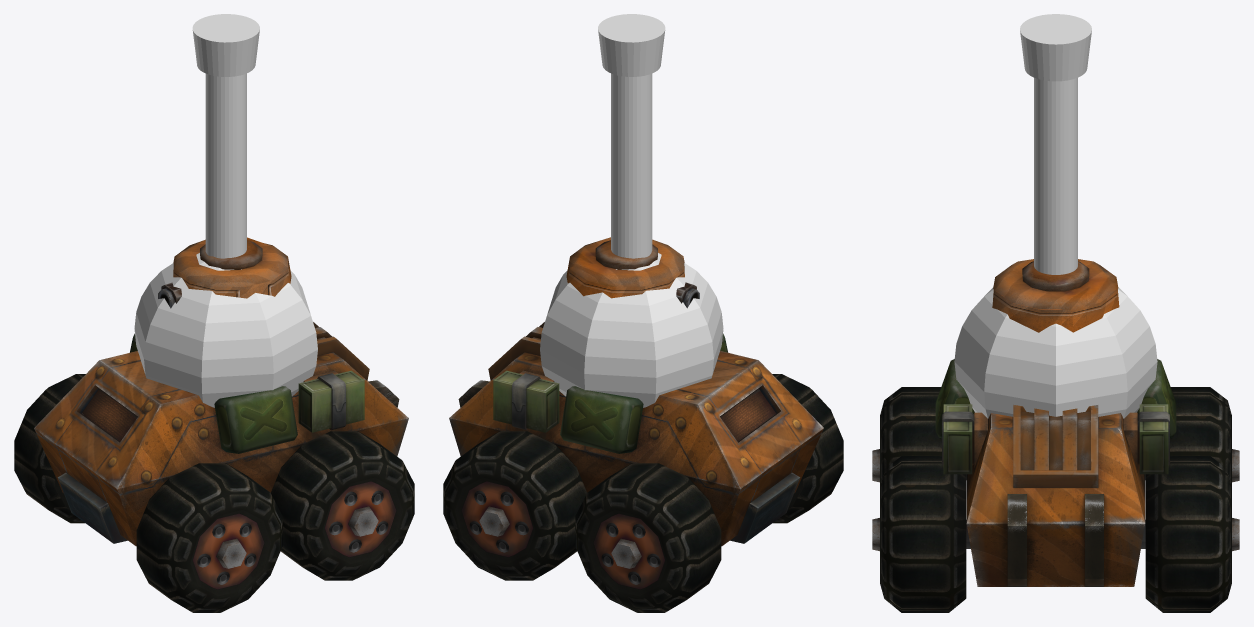
File: tank.glb
3 views of the same model, side by side, from view 1: azimuth 30°, elevation 25°; view 2: azimuth 150°, elevation 25°; view 3: azimuth 270°, elevation 25° (orthographic). The views are drawn at different scales.
Parts seen in each view (by area): view 1: export3dcoat, dome, gun; view 2: export3dcoat, dome, gun; view 3: export3dcoat, dome, gun.
Boxes of the visible parts, x1,y1,x2,y2 form: export3dcoat: [14, 237, 414, 612]; dome: [134, 253, 317, 407]; gun: [192, 14, 259, 258]; export3dcoat: [443, 237, 843, 612]; dome: [540, 253, 723, 407]; gun: [598, 14, 665, 258]; export3dcoat: [872, 259, 1239, 612]; dome: [954, 287, 1157, 418]; gun: [1020, 14, 1091, 274].
Bounding box in the file's own units: 1.1 × 1.8 × 1.09.
1 material, 1 textured.
